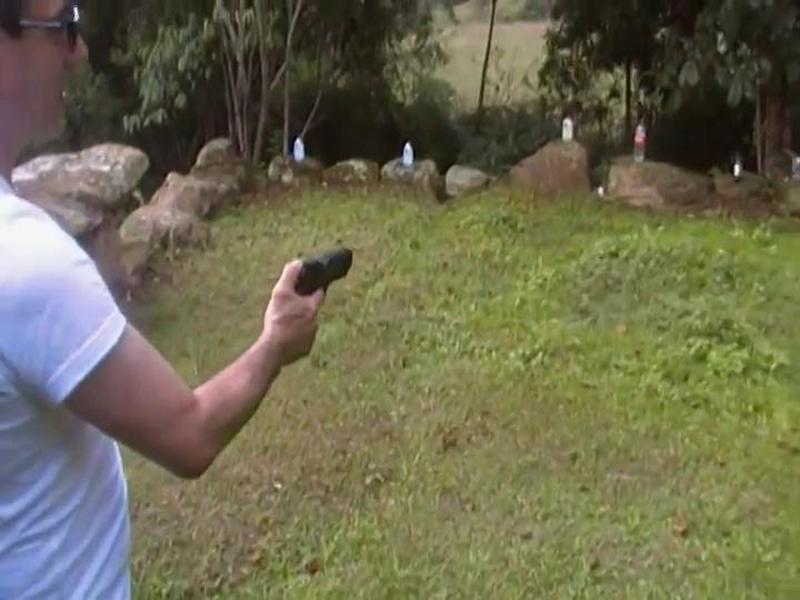Pistola: (289, 230, 374, 311)
